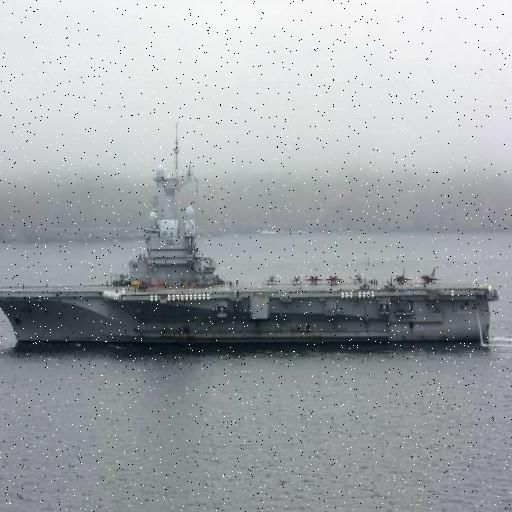Portanaves: (1, 122, 502, 354)
